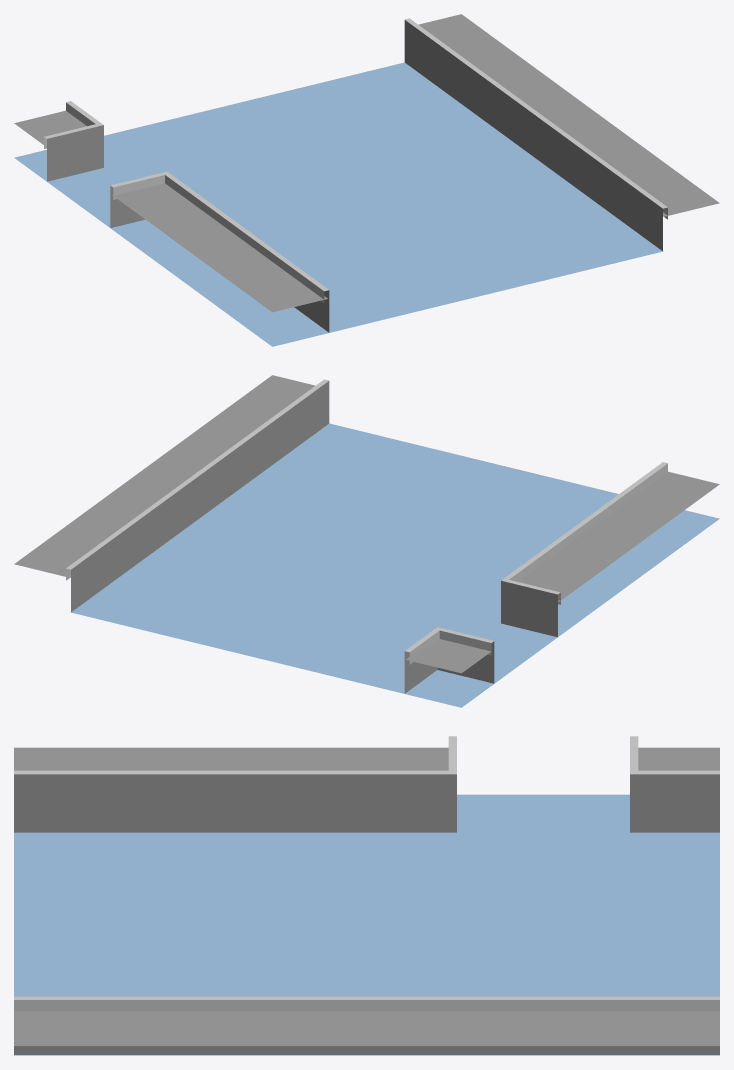
File: road_tile_river_2x2_002.glb
3 renders of one model, top to bottom at view 1: azimuth 30°, elevation 25°; view 2: azimuth 150°, elevation 25°; view 3: azimuth 270°, elevation 25°, orthographic. The views are drawn at different scales.
Visible parts, largest first — view 1: road_tile_river_2x2_002; view 2: road_tile_river_2x2_002; view 3: road_tile_river_2x2_002.
Boxes of the visible parts, x1,y1,x2,y2 form: road_tile_river_2x2_002: (14,14,719,346); road_tile_river_2x2_002: (14,375,719,707); road_tile_river_2x2_002: (14,736,719,1055).
Bounding box in the file's own units: 16 × 1.46 × 16.
Materials: 1 (1 with a texture image).
